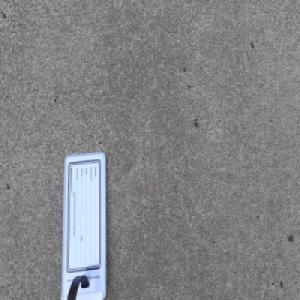LuggageTag: (59, 148, 108, 300)
